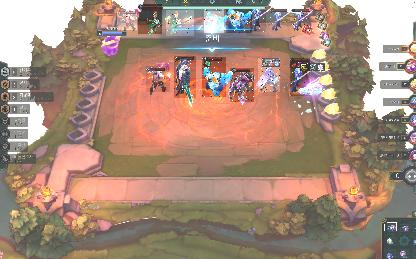1_nunu: (204, 9, 224, 33)
1_olaf: (117, 12, 137, 30)
1_pantheon: (258, 58, 280, 92)
1_yone: (292, 9, 310, 31), (270, 9, 286, 29)
2_nunu: (202, 57, 226, 97), (226, 9, 252, 33)
2_olaf: (146, 66, 170, 92)
2_sejuani: (230, 68, 254, 102)
2_wukong: (166, 10, 194, 36), (138, 4, 162, 34)
2_yone: (290, 58, 310, 96), (250, 10, 266, 32)
3_leona: (174, 56, 196, 98)
